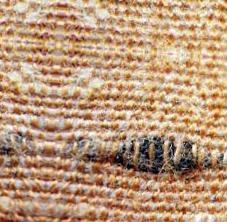slub: (61, 130, 226, 178)
